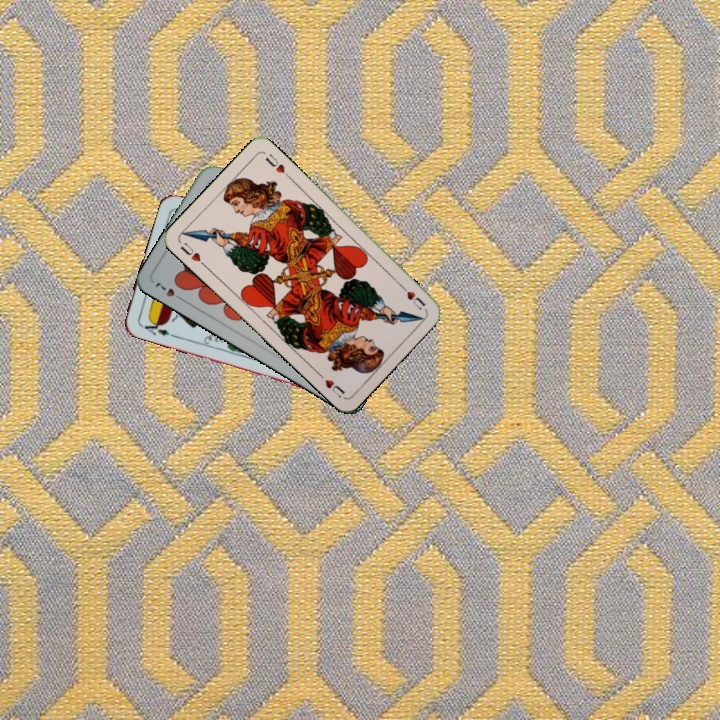EA: (137, 316, 176, 339)
H7: (151, 278, 187, 304)
HU: (176, 238, 209, 270), (395, 280, 428, 312)
